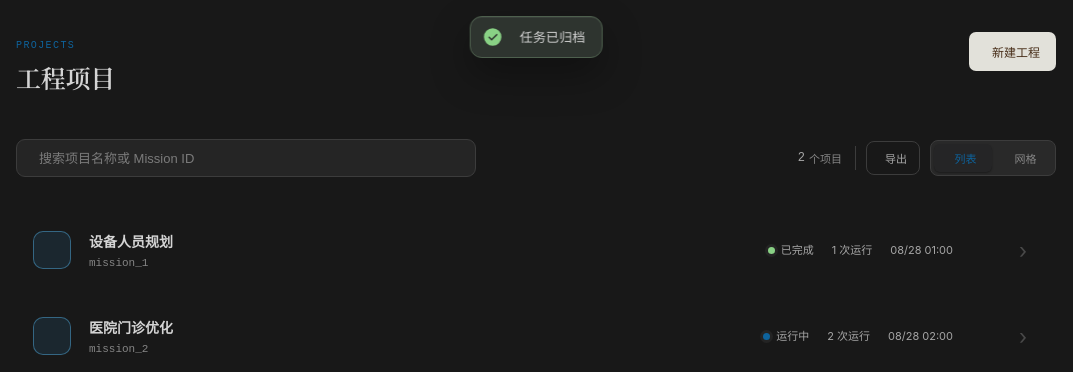
Scenario: ProjectListView › confirms deletion and disables destructive actions for an active Mission
Right-click the button "设备人员规划 mission_1 已完成 1 次运行 08/28 01:00 ›".
right_click(52, 250)  # box [33, 231, 1027, 269]
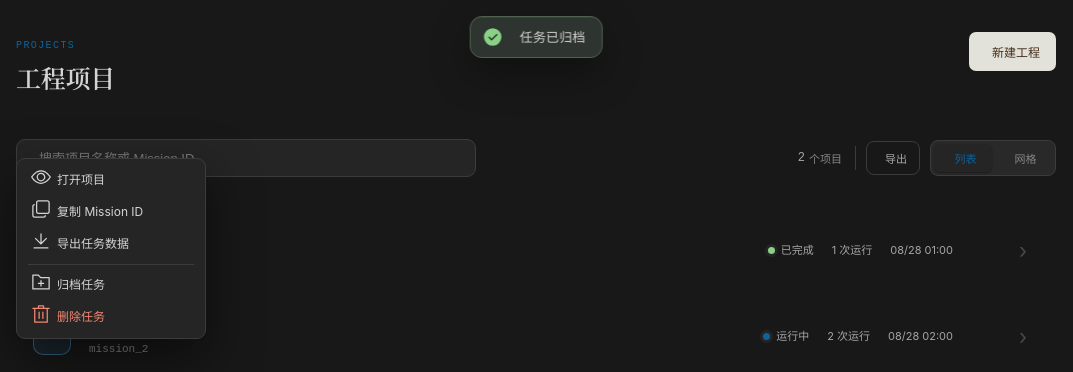
Click the menu item "删除任务".
click(111, 317)  # box [22, 301, 200, 333]
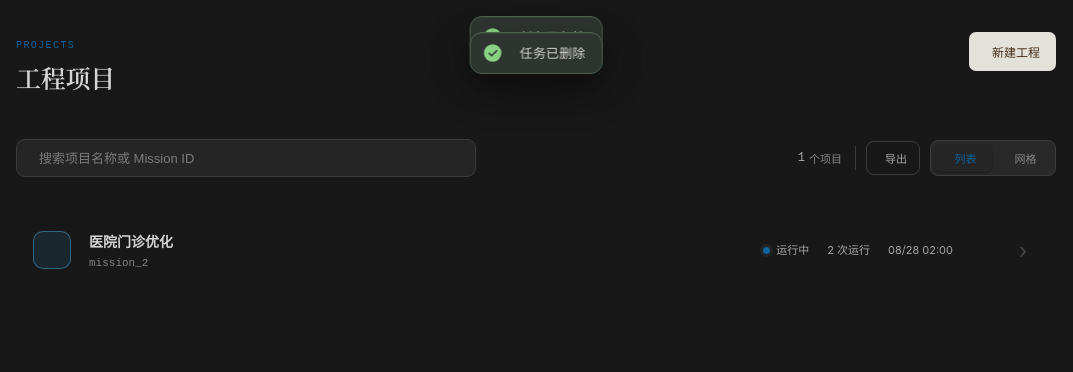
Right-click the button "医院门诊优化 mission_2 运行中 2 次运行 08/28 02:00 ›".
right_click(52, 250)  # box [33, 231, 1027, 269]
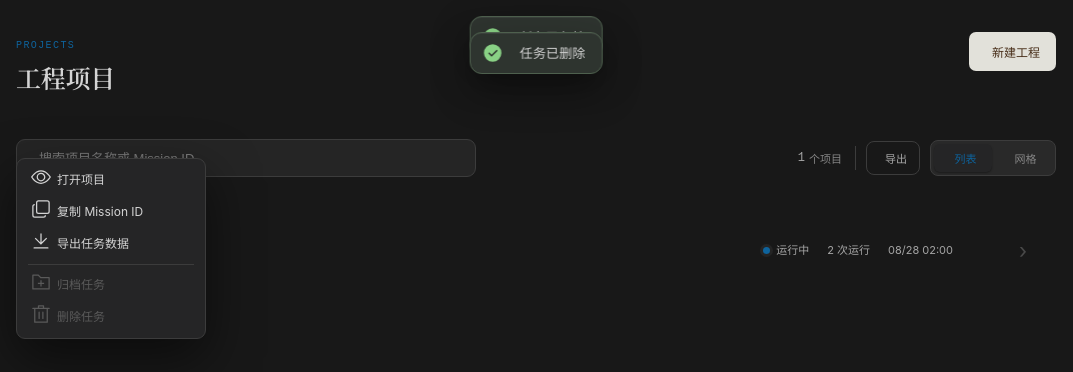
Check: the menu item "归档任务" is disabled, box [22, 269, 200, 301]
